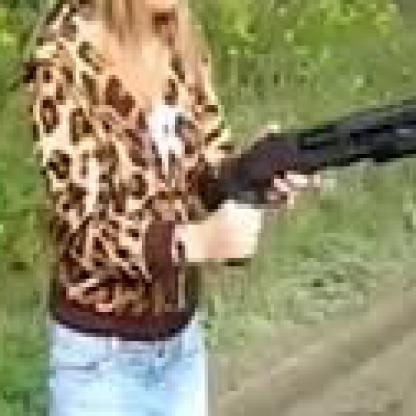gun: (69, 0, 413, 412)
